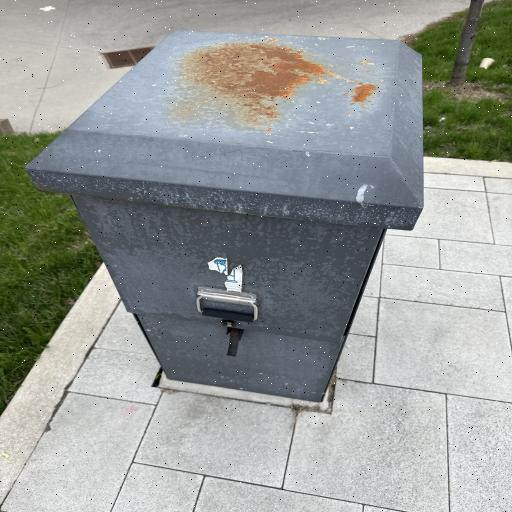Electrical Box: (25, 30, 422, 402)
